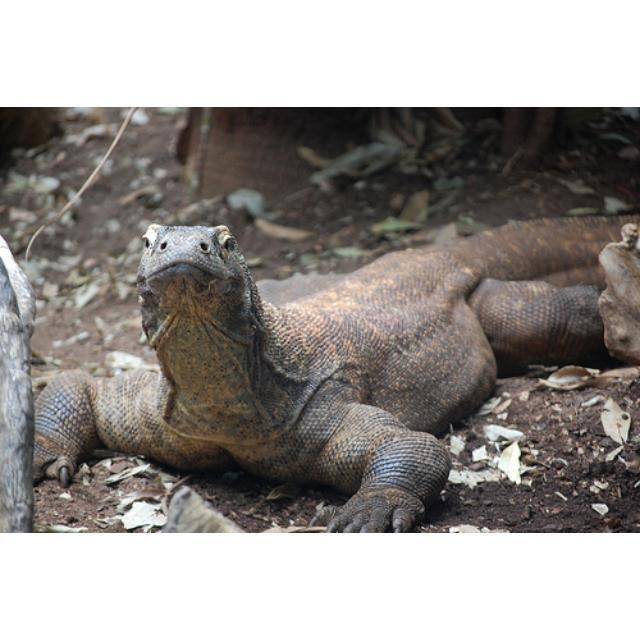KomodoDragon: (29, 211, 638, 531)
